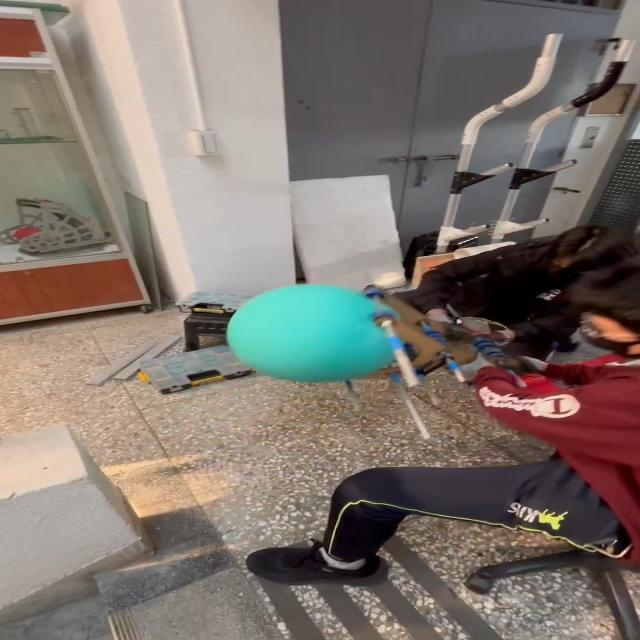ALGAE: (222, 282, 412, 384)
